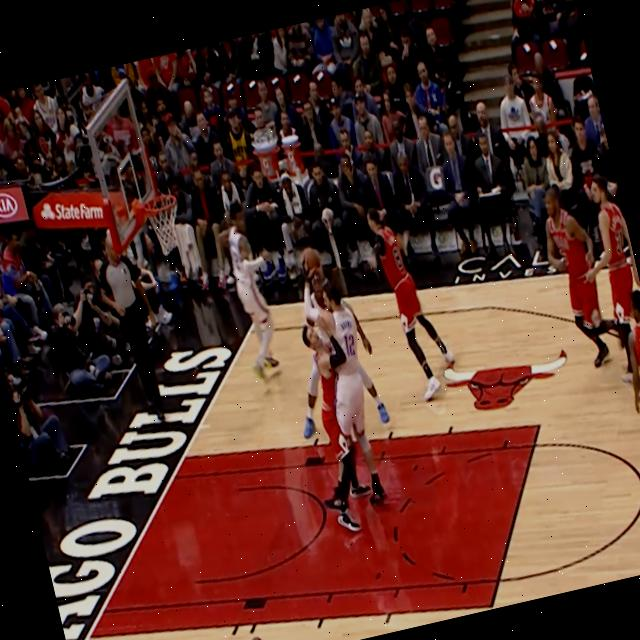foul: (260, 248, 396, 543)
no foul: (537, 173, 640, 392)
